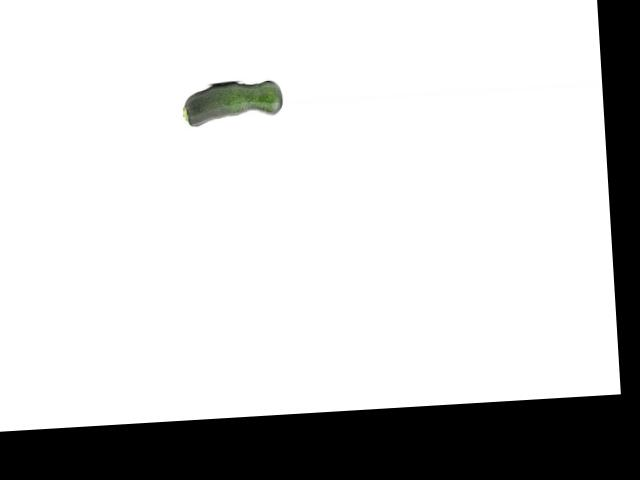cucumber: (180, 79, 283, 127)
